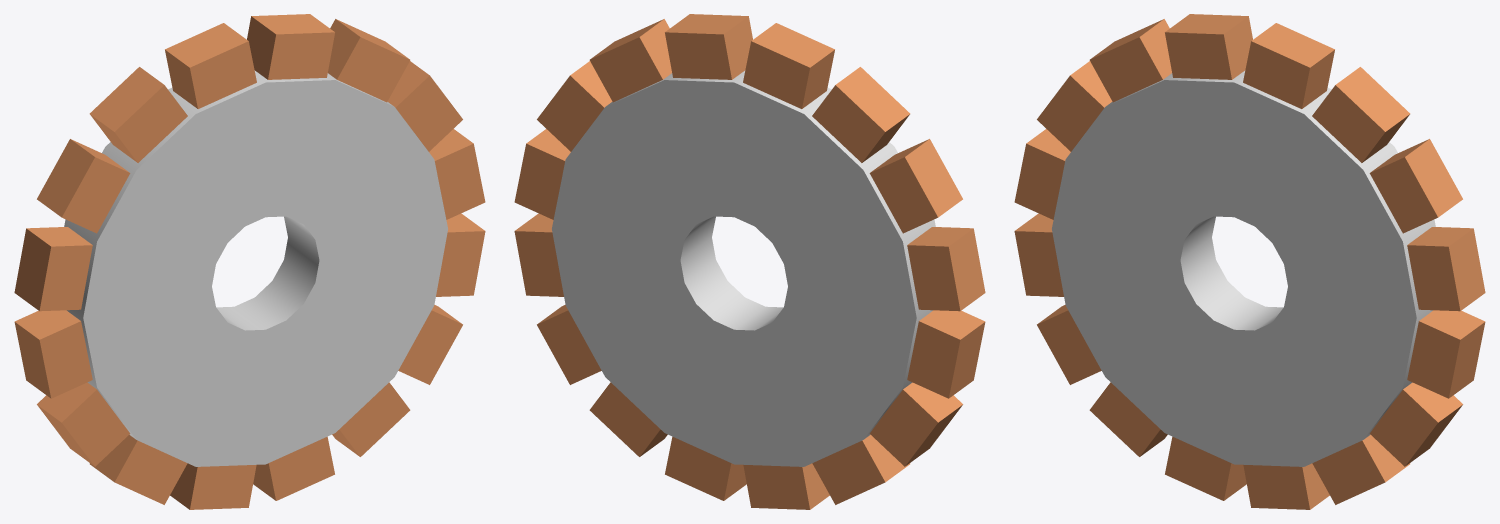
Rendered from zaziganie.glb.
3 views of the same model, side by side, from view 1: azimuth 30°, elevation 25°; view 2: azimuth 150°, elevation 25°; view 3: azimuth 330°, elevation 25° (orthographic).
Parts seen in each view (by area): view 1: Circle_low, Circle_low.001; view 2: Circle_low, Circle_low.001; view 3: Circle_low, Circle_low.001.
Boxes of the visible parts, x1=… form: Circle_low: x1=64, y1=70, x2=447, y2=466; Circle_low.001: x1=14, y1=14, x2=485, y2=509; Circle_low: x1=552, y1=70, x2=935, y2=466; Circle_low.001: x1=514, y1=14, x2=985, y2=509; Circle_low: x1=1052, y1=70, x2=1435, y2=466; Circle_low.001: x1=1014, y1=14, x2=1485, y2=509.
Size of the model in its own units: 2.66 by 2.66 by 0.3246.
